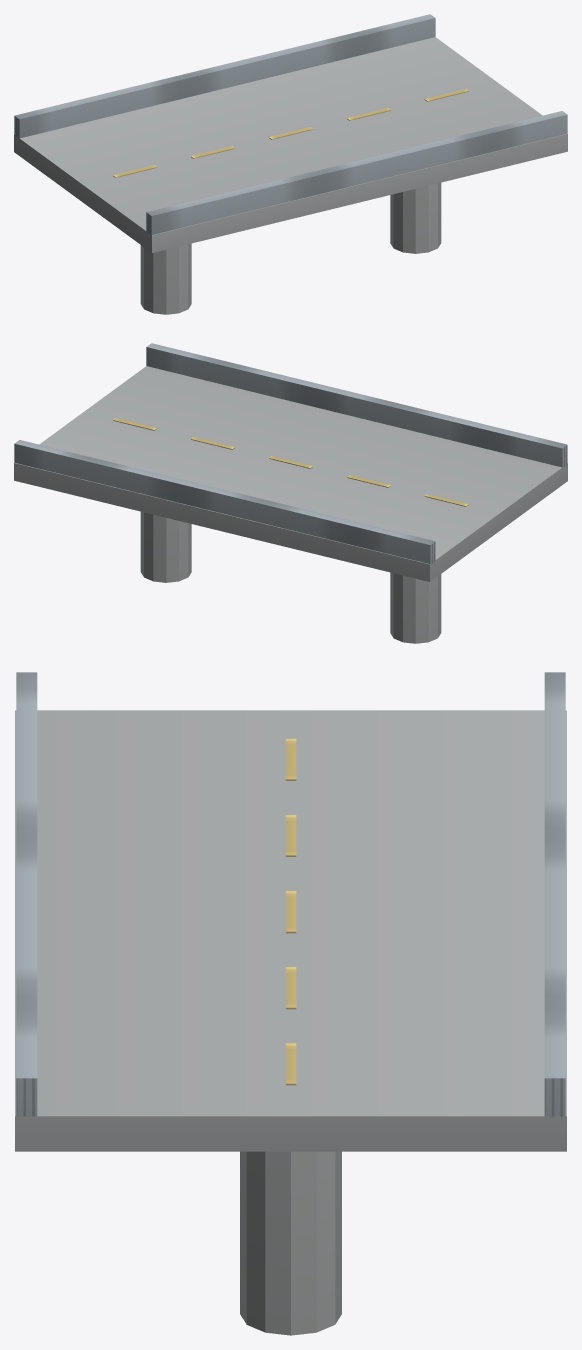
File: overpass.glb
The picture shows the model from 3 angles, top to bottom: view 1: azimuth 30°, elevation 25°; view 2: azimuth 150°, elevation 25°; view 3: azimuth 270°, elevation 25°; orthographic projection. The views are drawn at different scales.
Visible parts, largest first — view 1: overpass; view 2: overpass; view 3: overpass.
Boxes of the visible parts, left/top/right/bottom form: overpass: left=14, top=14, right=567, bottom=314; overpass: left=14, top=343, right=567, bottom=643; overpass: left=15, top=672, right=566, bottom=1335.
Size of the model in its own units: 16 by 5.82 by 9.2.
1 material, 1 textured.
